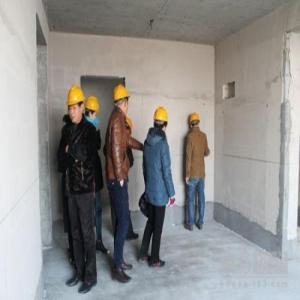yellow: (67, 84, 86, 125), (113, 83, 131, 115), (154, 105, 171, 137), (85, 94, 101, 124), (189, 112, 202, 132)
